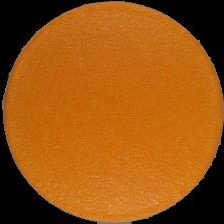21695-326: (0, 0, 224, 224)
